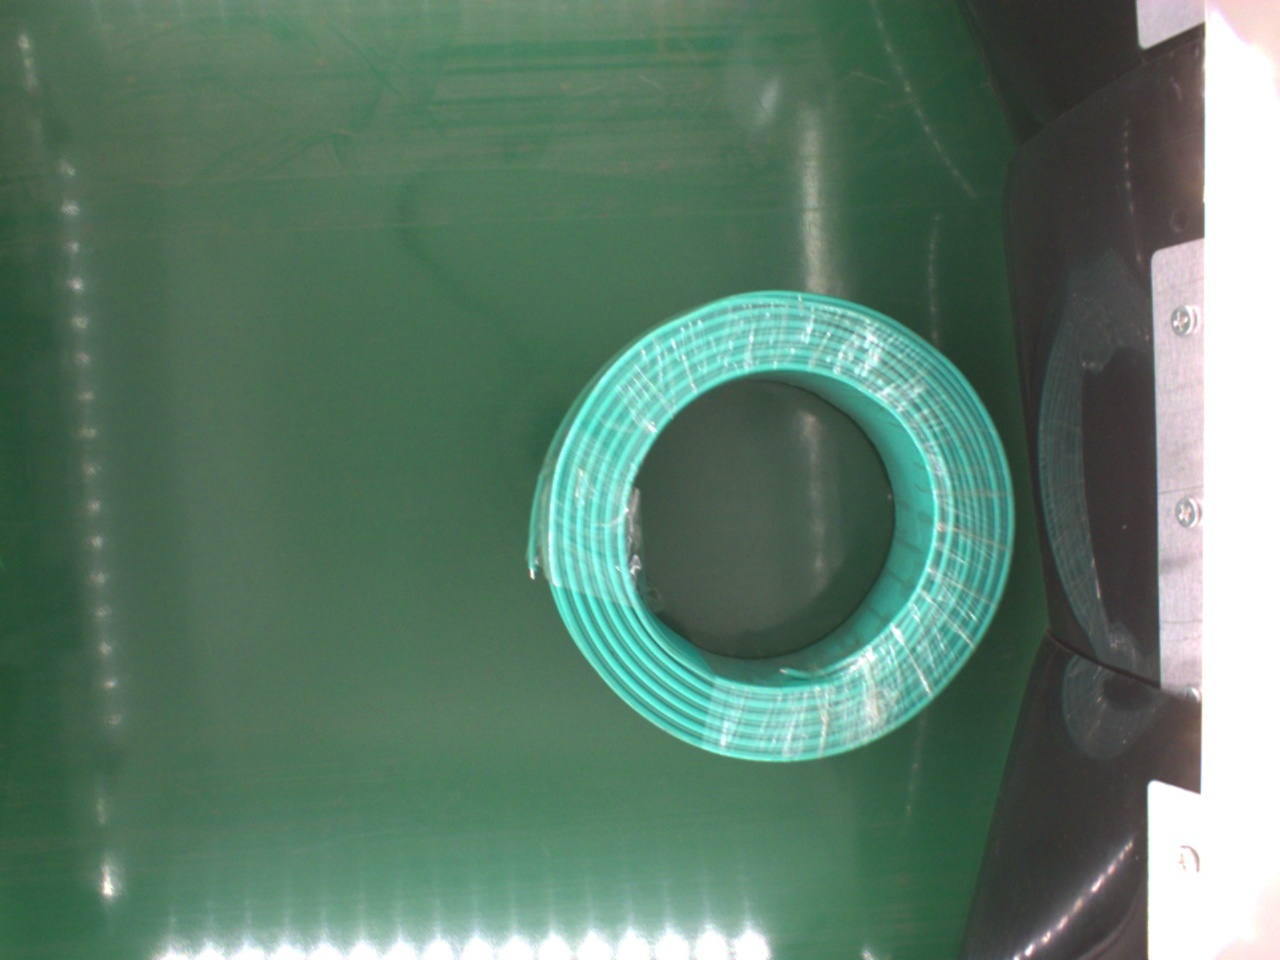green: (534, 289, 1016, 765)
